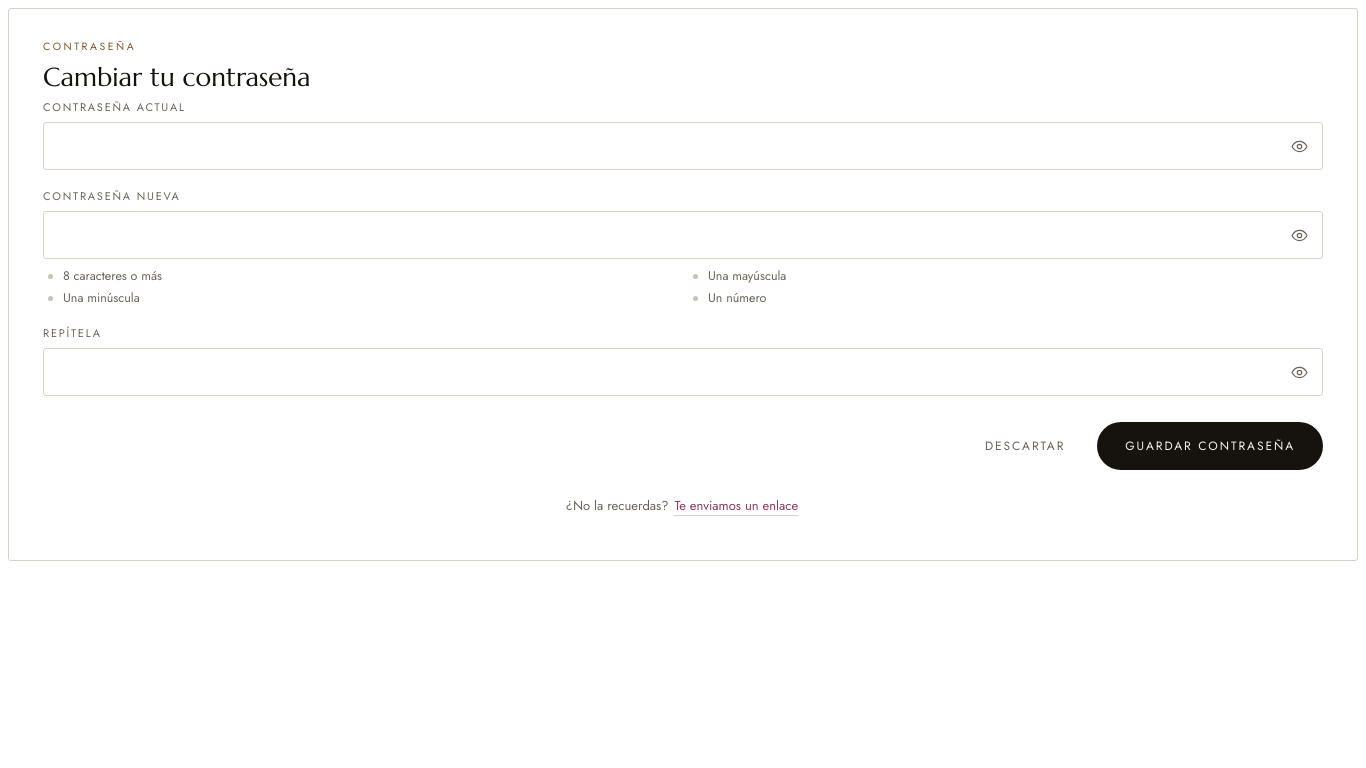
Test: SeccionContrasena · con contraseña › si no coinciden, lo dice en «Repítela»
Type "Vieja2025" into the password field with test id "campo-actual". click: (683, 146)
box: [43, 122, 1323, 170]
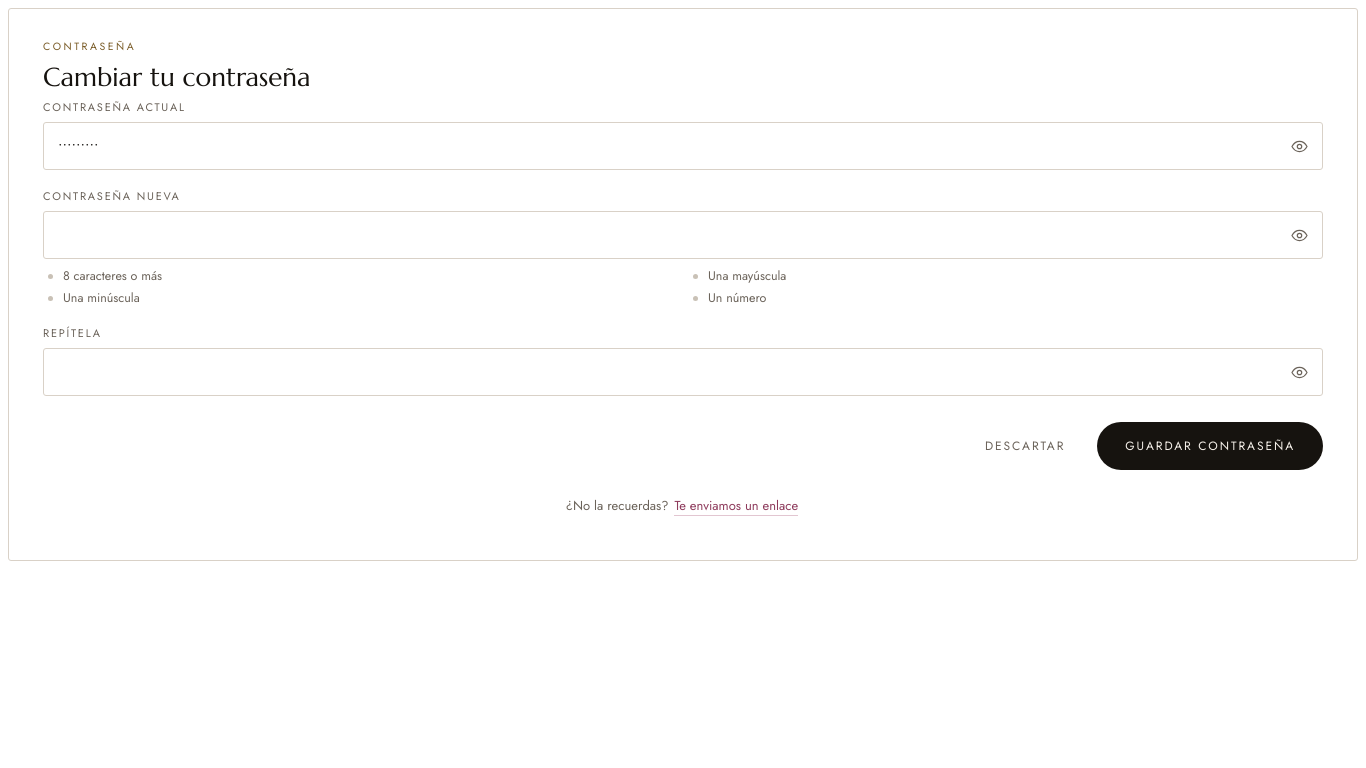
Type "Marlene2026" into the password field with test id "campo-nueva". click: (683, 235)
box: [43, 211, 1323, 259]
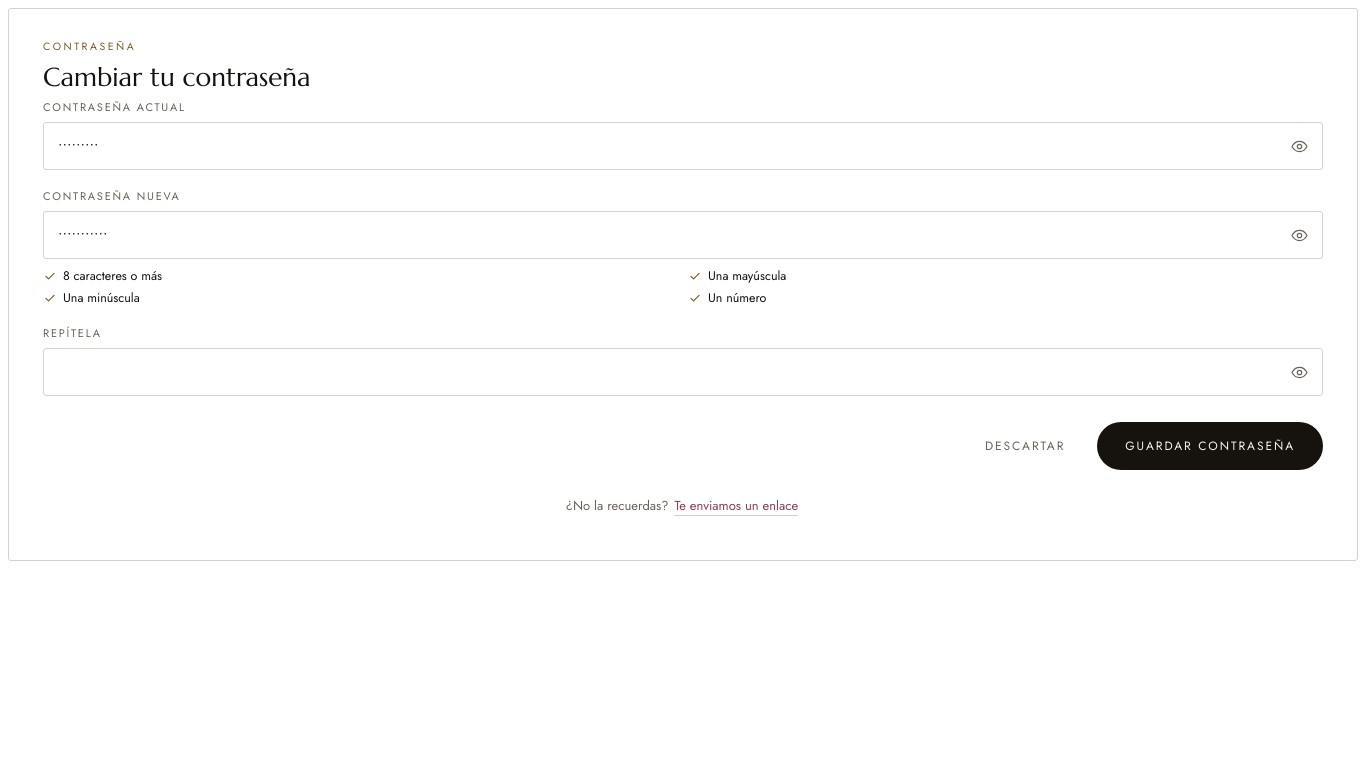
Type "Marlene2027" into the password field with test id "campo-repetida". click: (683, 372)
box: [43, 348, 1323, 396]
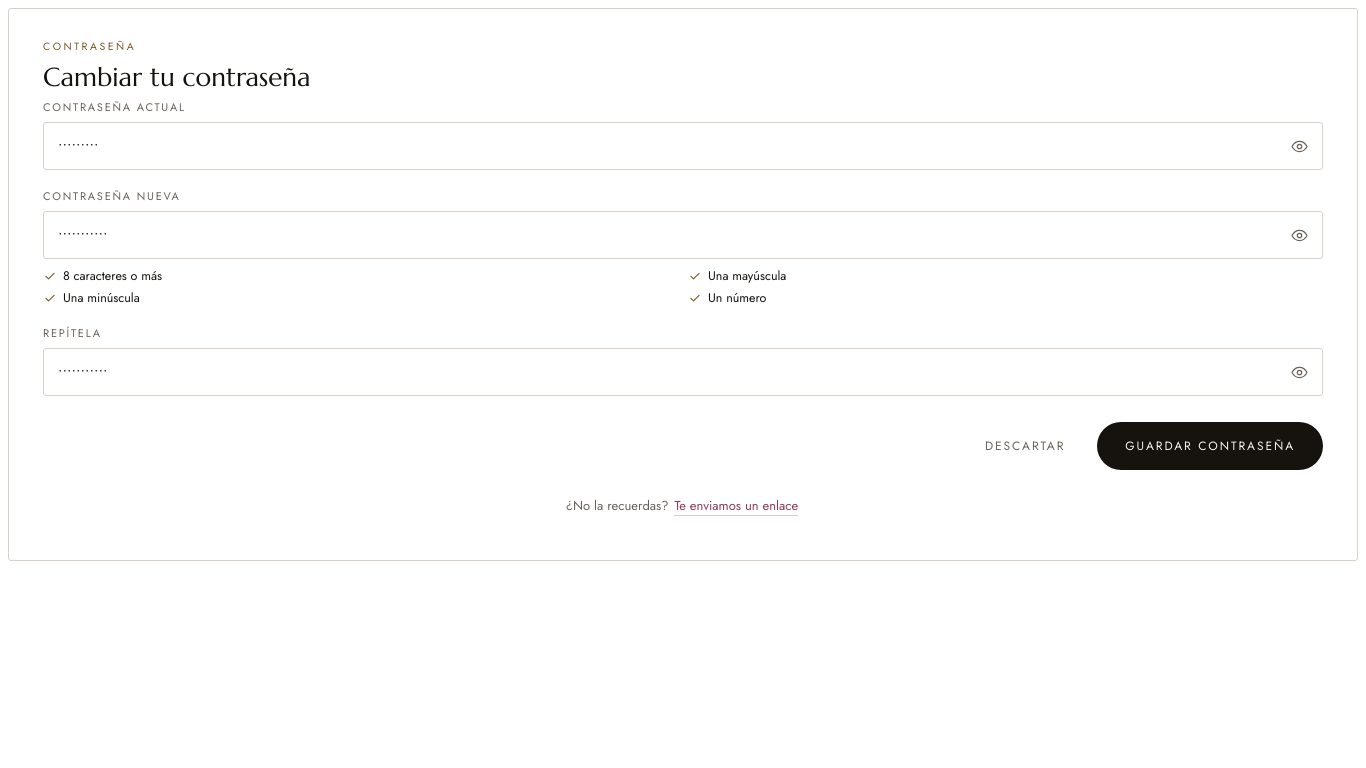
Submit the form, box [43, 99, 1323, 470]
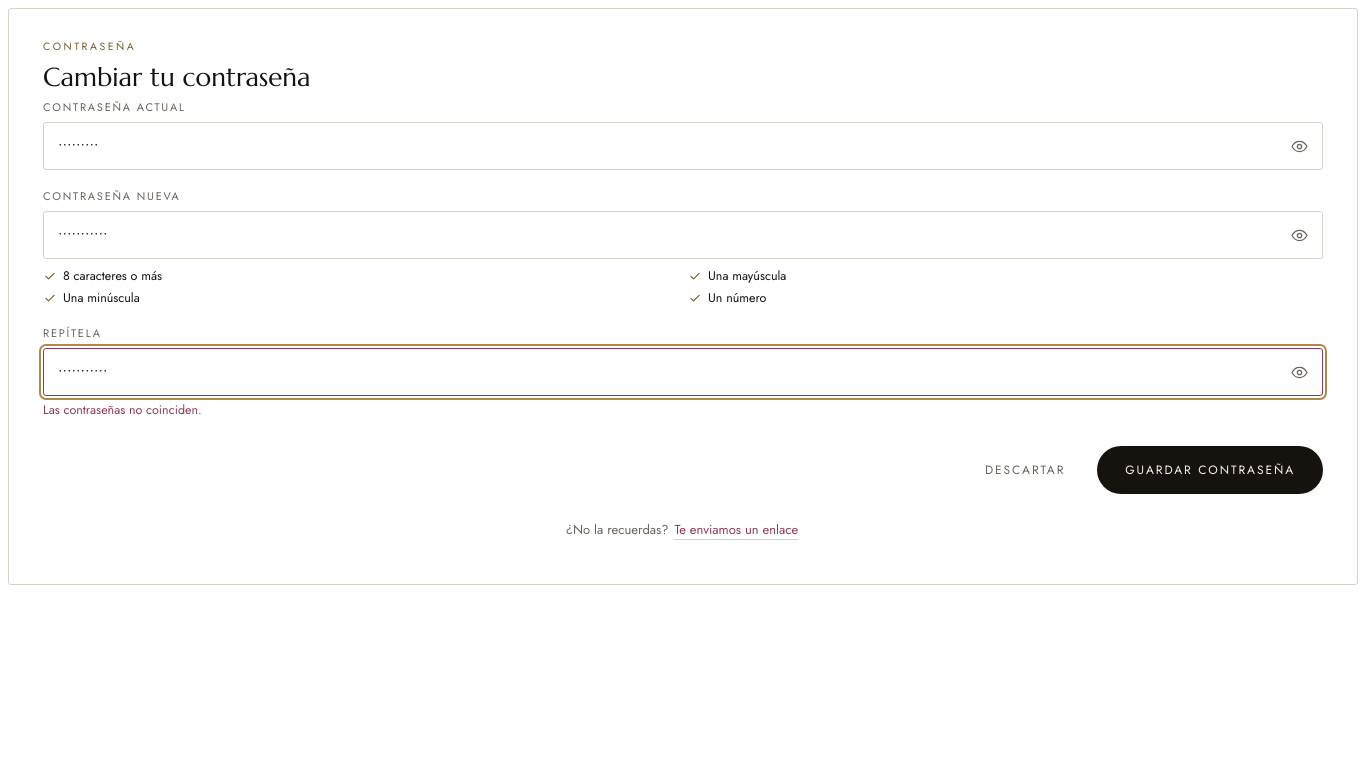
expect the text with test id "campo-repetida-error" reads "Las contraseñas no coinciden.": met, box [43, 401, 202, 419]
